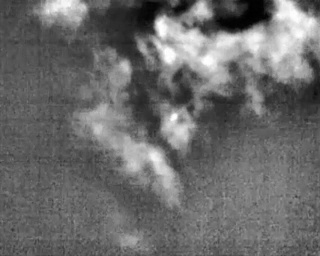AIRPLANE: (129, 117, 141, 131)
